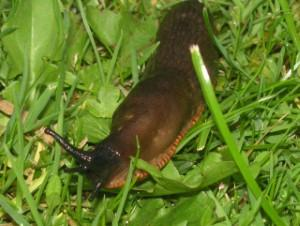slug: (34, 7, 243, 190)
